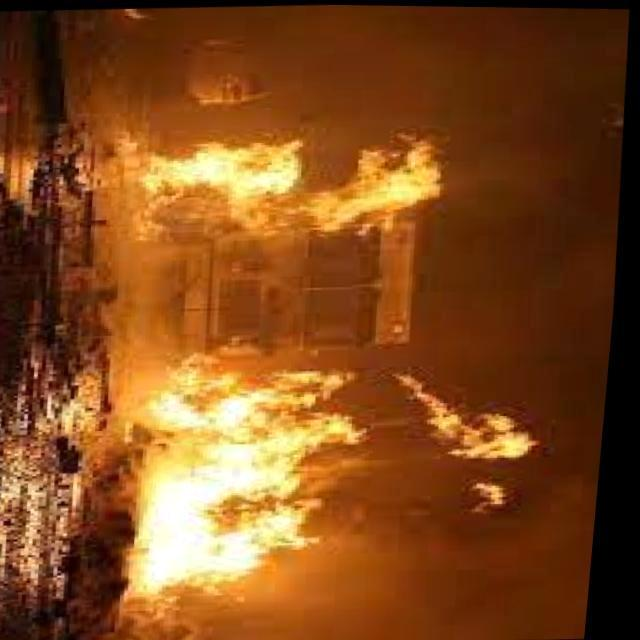fire: (120, 334, 578, 606), (131, 118, 461, 234)
